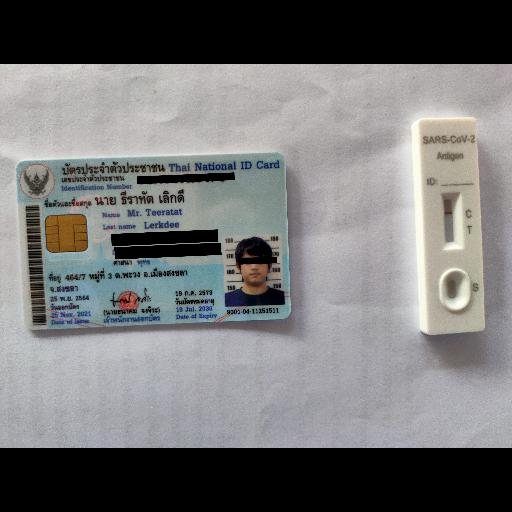Neg: (419, 119, 485, 333)
